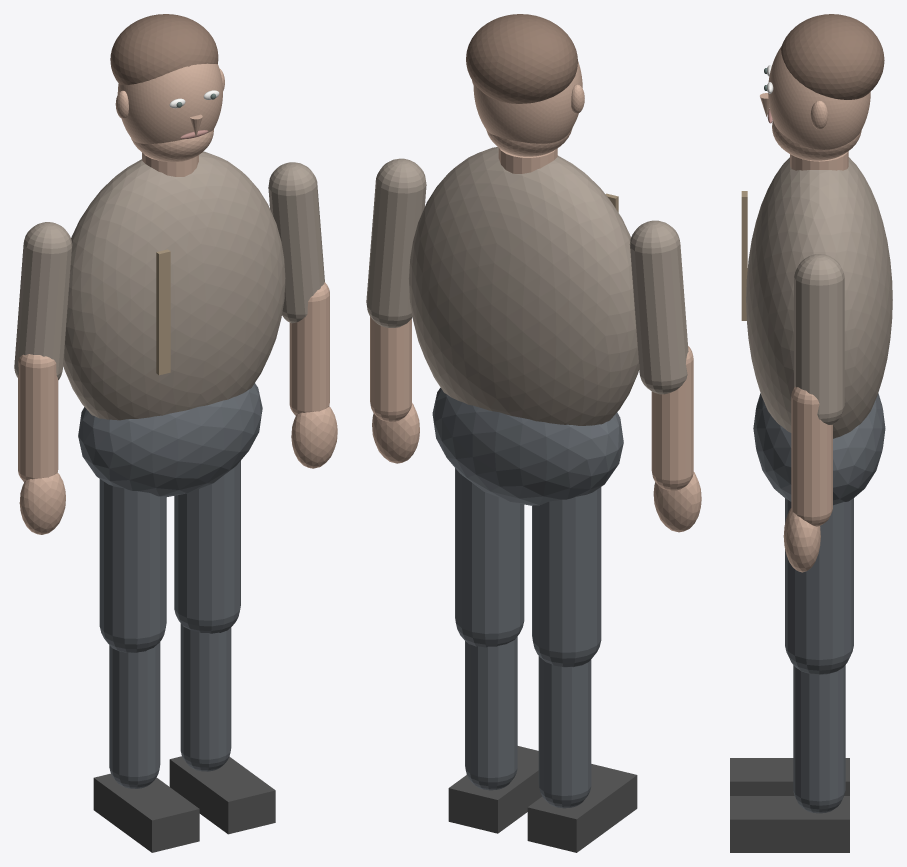
The model's file is council-builder-human-v1.glb.
The picture shows the model from 3 angles, left to right: view 1: azimuth 30°, elevation 25°; view 2: azimuth 150°, elevation 25°; view 3: azimuth 270°, elevation 25°; orthographic projection. The views are drawn at different scales.
Visible parts, largest first — view 1: builder-torso, builder-pelvis, builder-thigh-left, builder-thigh-right, builder-calf-right, builder-calf-left, builder-upper-arm-left, builder-upper-arm-right, builder-head, builder-shoe-left, builder-hair-cap, builder-shoe-right (+7 smaller); view 2: builder-torso, builder-pelvis, builder-thigh-left, builder-thigh-right, builder-upper-arm-left, builder-hair-cap, builder-calf-left, builder-calf-right, builder-upper-arm-right, builder-shoe-left, builder-forearm-left, builder-shoe-right (+6 smaller); view 3: builder-torso, builder-thigh-right, builder-upper-arm-right, builder-calf-right, builder-hair-cap, builder-shoe-right, builder-pelvis, builder-head, builder-forearm-right, builder-shoe-left, builder-hand-right, builder-jaw (+3 smaller).
Part boxes in pixels (x1,y1,x2,y2): builder-torso: (63,151,285,420); builder-pelvis: (78,383,262,497); builder-thigh-left: (99,479,166,652); builder-thigh-right: (174,461,240,633); builder-calf-right: (180,623,231,771); builder-calf-left: (109,642,160,788); builder-upper-arm-left: (14,222,72,379); builder-upper-arm-right: (268,162,324,323); builder-head: (117,63,222,143); builder-shoe-left: (93,773,199,852); builder-hair-cap: (110,14,218,84); builder-shoe-right: (169,756,275,834); builder-torso: (408,147,639,425); builder-pelvis: (432,387,623,505); builder-thigh-left: (532,487,601,667); builder-thigh-right: (455,468,524,647); builder-upper-arm-left: (629,220,688,394); builder-hair-cap: (466,14,577,103); builder-calf-left: (538,656,591,808); builder-calf-right: (465,636,517,790); builder-upper-arm-right: (366,158,426,327); builder-shoe-left: (527,764,637,852); builder-forearm-left: (651,346,693,490); builder-shoe-right: (448,746,542,833); builder-torso: (746,157,892,438); builder-thigh-right: (785,498,853,674); builder-upper-arm-right: (794,254,844,424); builder-calf-right: (793,665,845,813); builder-hair-cap: (780,14,884,99); builder-shoe-right: (730,796,849,852); builder-pelvis: (753,393,885,505); builder-head: (768,46,870,149); builder-forearm-right: (791,386,832,526); builder-shoe-left: (730,758,849,795); builder-hand-right: (783,508,820,572); builder-jaw: (772,121,861,160).
Bounding box in the file's own units: 0.784 × 1.86 × 0.3425.
